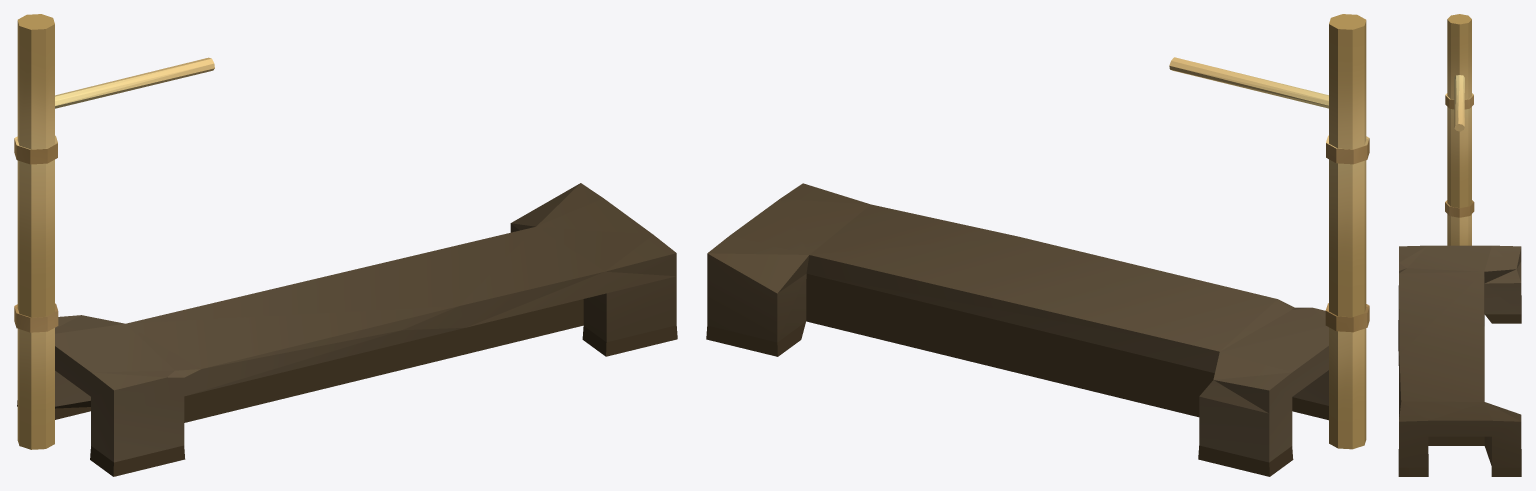
Rendered from MarketStall_C.fbx.
The picture shows the model from 3 angles, left to right: view 1: azimuth 30°, elevation 25°; view 2: azimuth 150°, elevation 25°; view 3: azimuth 270°, elevation 25°; orthographic projection. The views are drawn at different scales.
Parts seen in each view (by area): view 1: MarketStall_Table_Space.001, MarketStall_FlagPole.001; view 2: MarketStall_Table_Space.001, MarketStall_FlagPole.001; view 3: MarketStall_Table_Space.001, MarketStall_FlagPole.001.
Part boxes in pixels (bbox=[...]): MarketStall_Table_Space.001: bbox=[17, 183, 677, 476]; MarketStall_FlagPole.001: bbox=[14, 14, 214, 449]; MarketStall_Table_Space.001: bbox=[706, 183, 1328, 476]; MarketStall_FlagPole.001: bbox=[1169, 14, 1369, 449]; MarketStall_Table_Space.001: bbox=[1398, 245, 1521, 476]; MarketStall_FlagPole.001: bbox=[1445, 14, 1474, 245].
Bounding box in the file's own units: 3.66 × 2.44 × 1.
Materials: 1 (1 with a texture image).
